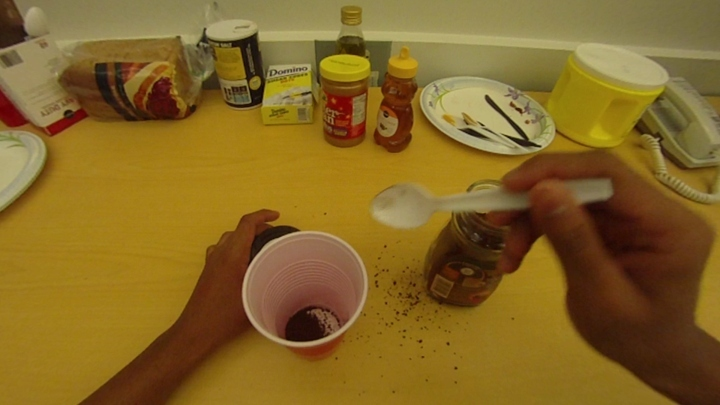hand: (483, 153, 708, 358), (201, 208, 278, 333)
